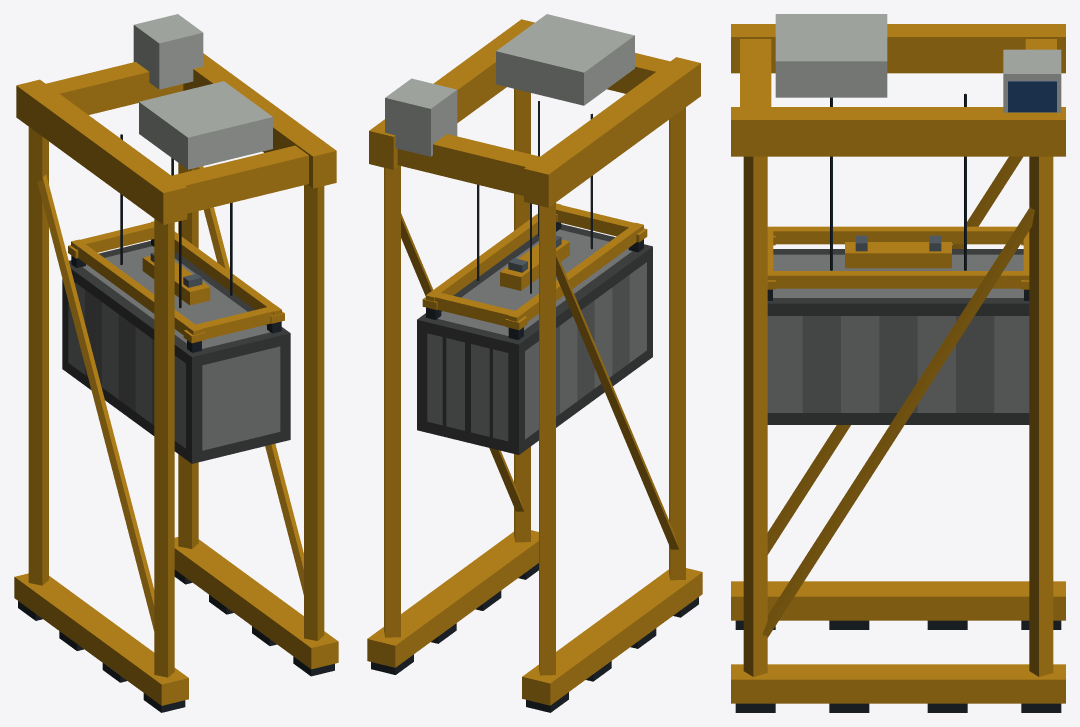
File: straddle-carrier.glb
The picture shows the model from 3 angles, left to right: view 1: azimuth 30°, elevation 25°; view 2: azimuth 150°, elevation 25°; view 3: azimuth 270°, elevation 25°; orthographic projection. The views are drawn at different scales.
Parts seen in each view (by area): view 1: straddle-carrier; view 2: straddle-carrier; view 3: straddle-carrier.
Boxes of the visible parts, bbox=[...] form: straddle-carrier: bbox=[14, 14, 338, 712]; straddle-carrier: bbox=[367, 14, 702, 712]; straddle-carrier: bbox=[731, 14, 1065, 712].
Size of the model in its own units: 10.4 by 31.2 by 15.
